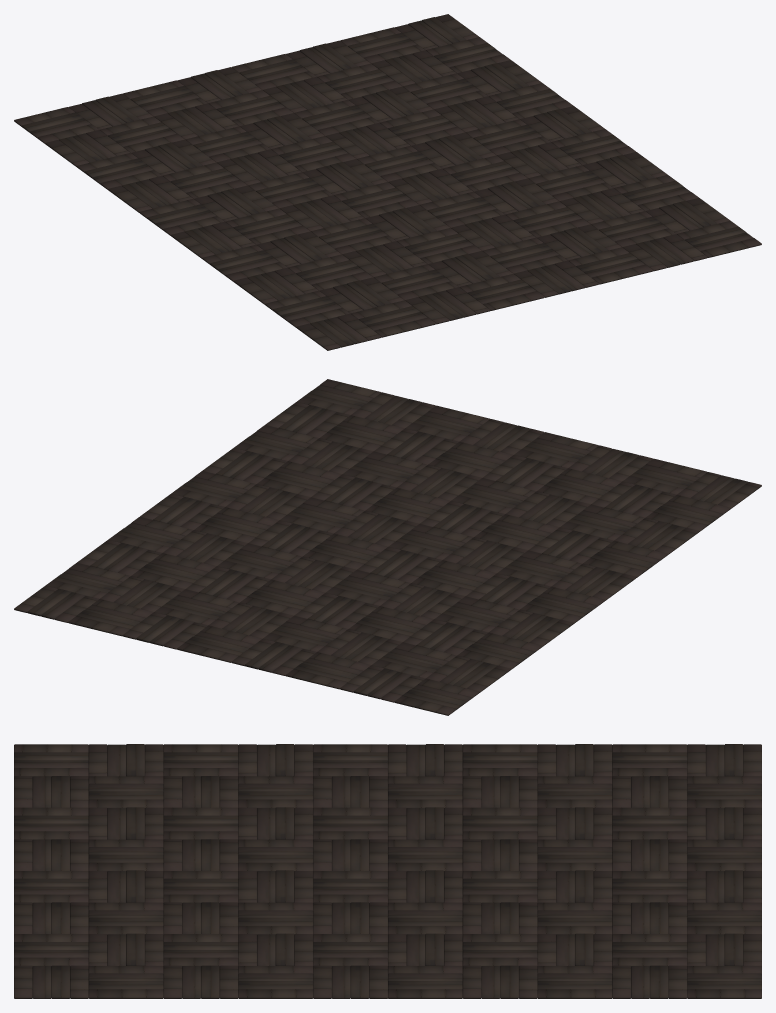
Rendered from floor.fbx.
3 renders of one model, top to bottom at view 1: azimuth 30°, elevation 25°; view 2: azimuth 150°, elevation 25°; view 3: azimuth 270°, elevation 25°, orthographic. The views are drawn at different scales.
Parts seen in each view (by area): view 1: floor; view 2: floor; view 3: floor.
Part boxes in pixels (x1,y1,x2,y2): floor: [14, 14, 761, 350]; floor: [14, 379, 761, 715]; floor: [14, 744, 761, 998].
Size of the model in its own units: 1600 by 8.03 by 2000.
